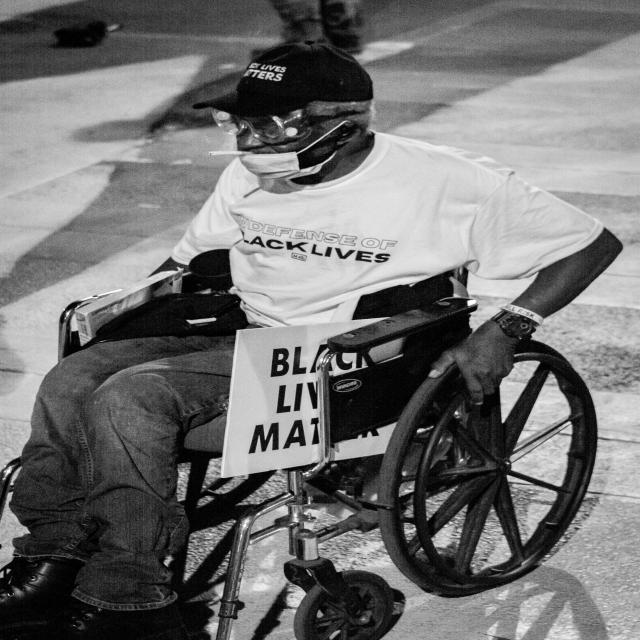wheelchairs: (0, 241, 605, 640)
